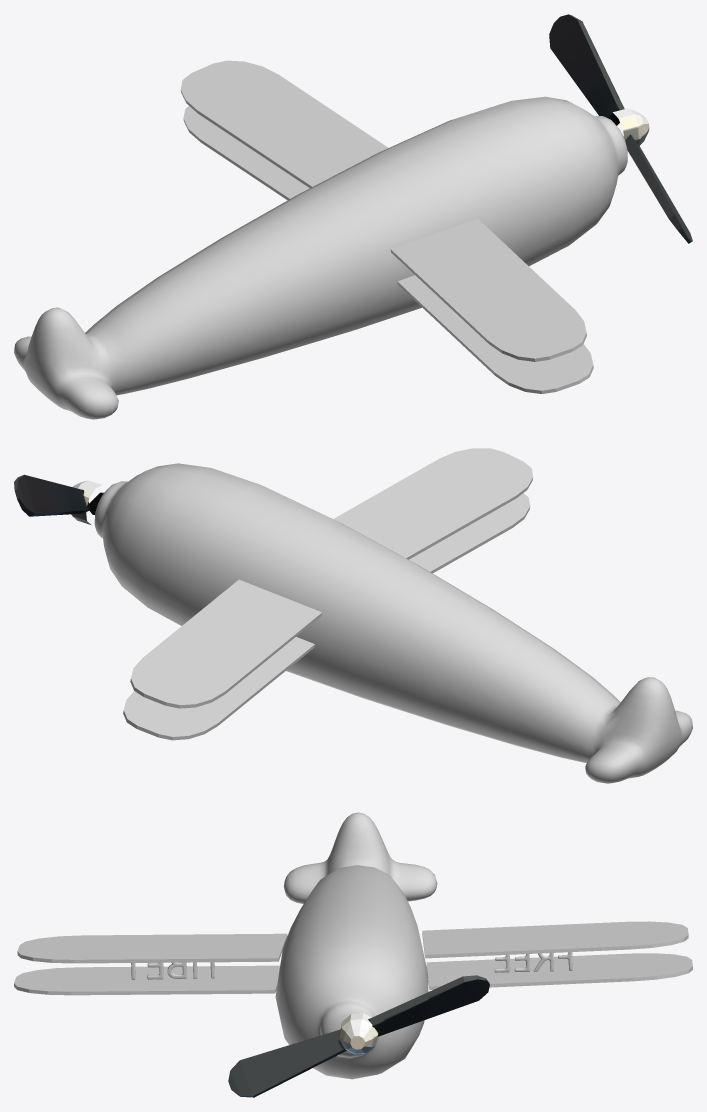
3 views of the same model, one above another, from view 1: azimuth 30°, elevation 25°; view 2: azimuth 150°, elevation 25°; view 3: azimuth 270°, elevation 25° (orthographic). The views are drawn at different scales.
Visible parts, largest first — view 1: planetibet, PUSHILIN_Plane_Helix.001; view 2: planetibet, PUSHILIN_Plane_Helix.001; view 3: planetibet, PUSHILIN_Plane_Helix.001.
Boxes of the visible parts, <box> form: planetibet: <box>14,60,627,419</box>; PUSHILIN_Plane_Helix.001: <box>549,14,692,243</box>; planetibet: <box>94,448,692,783</box>; PUSHILIN_Plane_Helix.001: <box>14,474,103,524</box>; planetibet: <box>14,812,692,1079</box>; PUSHILIN_Plane_Helix.001: <box>228,975,489,1097</box>.
Size of the model in its own units: 3.16 by 1 by 3.28.
Materials: 2 (1 with a texture image).
